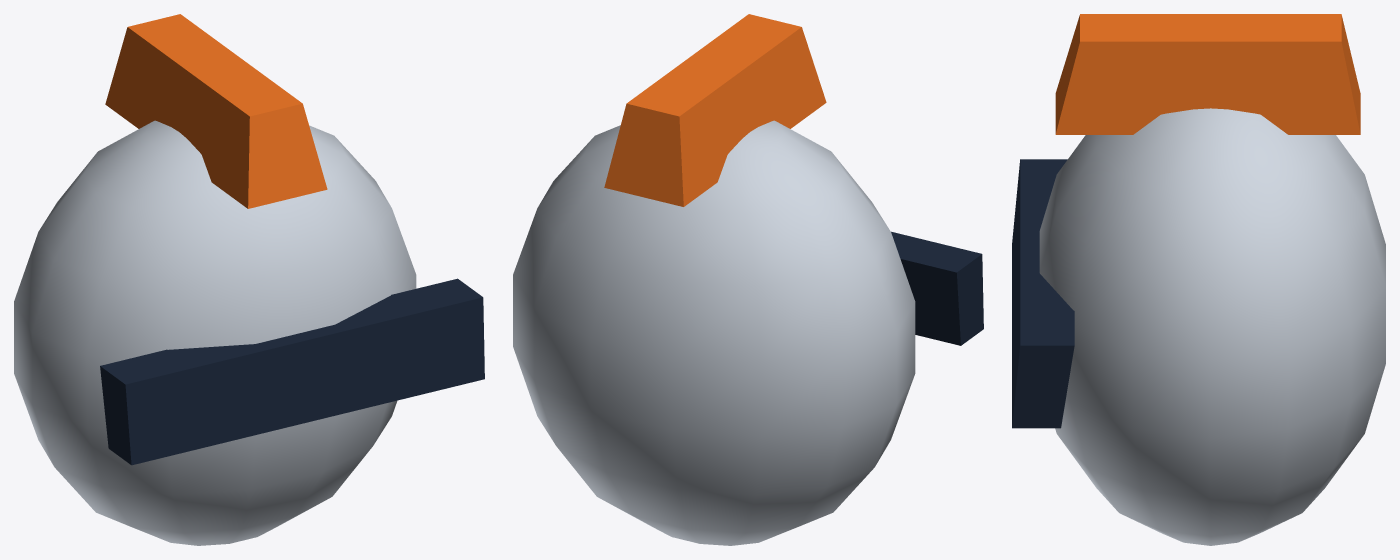
File: Head.glb
3 renders of one model, left to right at view 1: azimuth 30°, elevation 25°; view 2: azimuth 150°, elevation 25°; view 3: azimuth 270°, elevation 25°, orthographic. The views are drawn at different scales.
Visible parts, largest first — view 1: helmet, visor, helmet_crest; view 2: helmet, helmet_crest, visor; view 3: helmet, helmet_crest, visor.
Boxes of the visible parts, x1,y1,x2,y2 form: helmet: (14,120,416,545); visor: (100,278,484,465); helmet_crest: (105,14,327,208); helmet: (513,120,915,545); helmet_crest: (604,14,826,206); visor: (891,231,983,345); helmet: (1039,108,1385,545); helmet_crest: (1055,14,1360,134); visor: (1012,159,1074,428).
Size of the model in its own units: 1.65 by 2.02 by 1.37.
